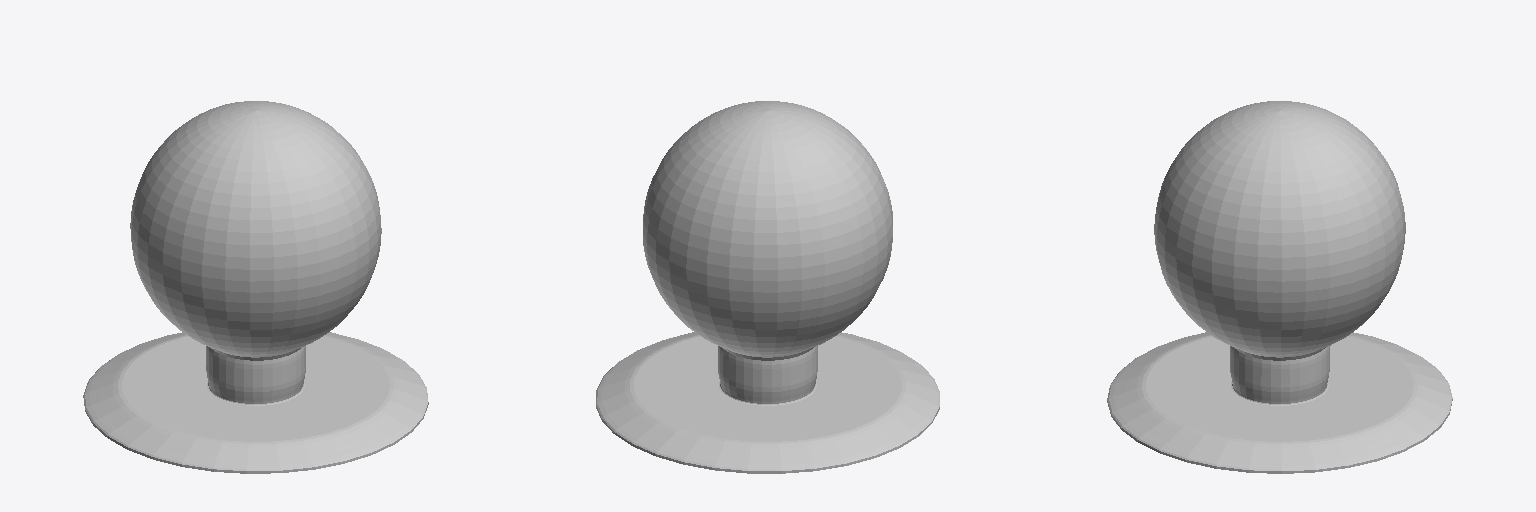
File: mitsuba0.obj
The picture shows the model from 3 angles: view 1: azimuth 30°, elevation 25°; view 2: azimuth 150°, elevation 25°; view 3: azimuth 270°, elevation 25°; orthographic projection.
Visible parts, largest first — view 1: object0; view 2: object0; view 3: object0.
Boxes of the visible parts, box(x1,y1,x2,y2) form: object0: box(83, 101, 428, 473); object0: box(596, 101, 939, 473); object0: box(1107, 101, 1452, 473).
Size of the model in its own units: 2.3 by 2.14 by 2.31.